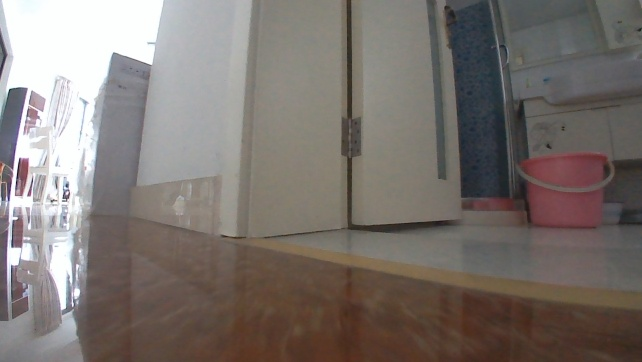door_anno: (295, 0, 466, 245)
